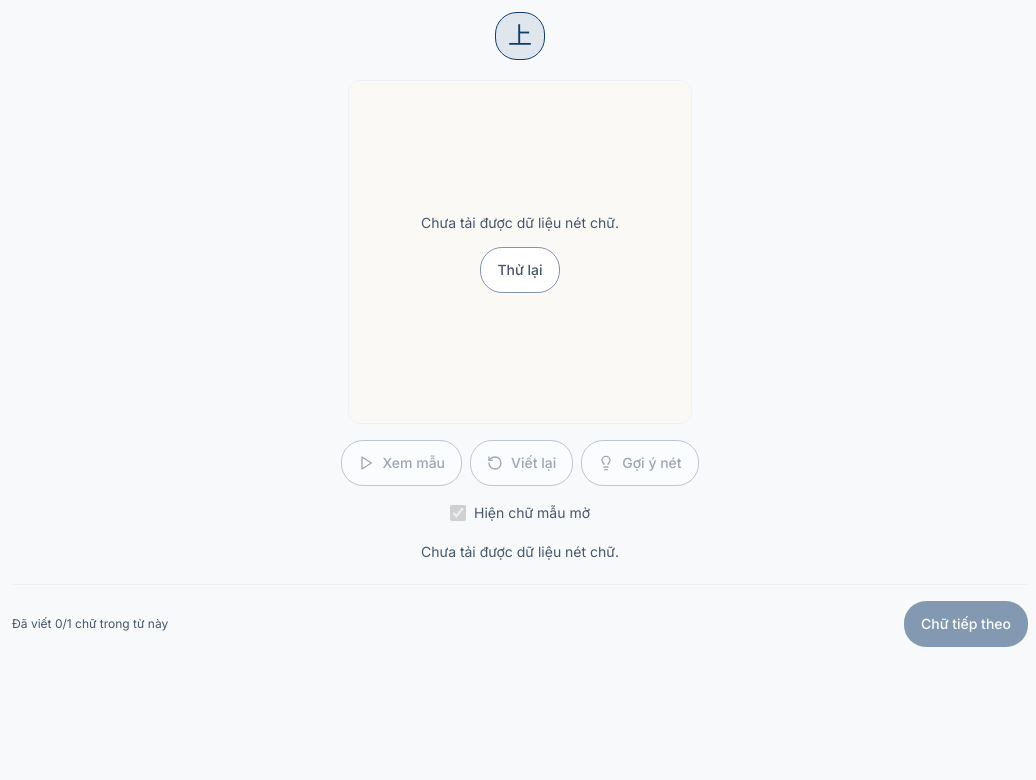
Test: offers retry after missing data and does not require a text or audio answer
The image size is (1036, 780).
Click the button "Thử lại" at (520, 270), box [480, 247, 560, 293]
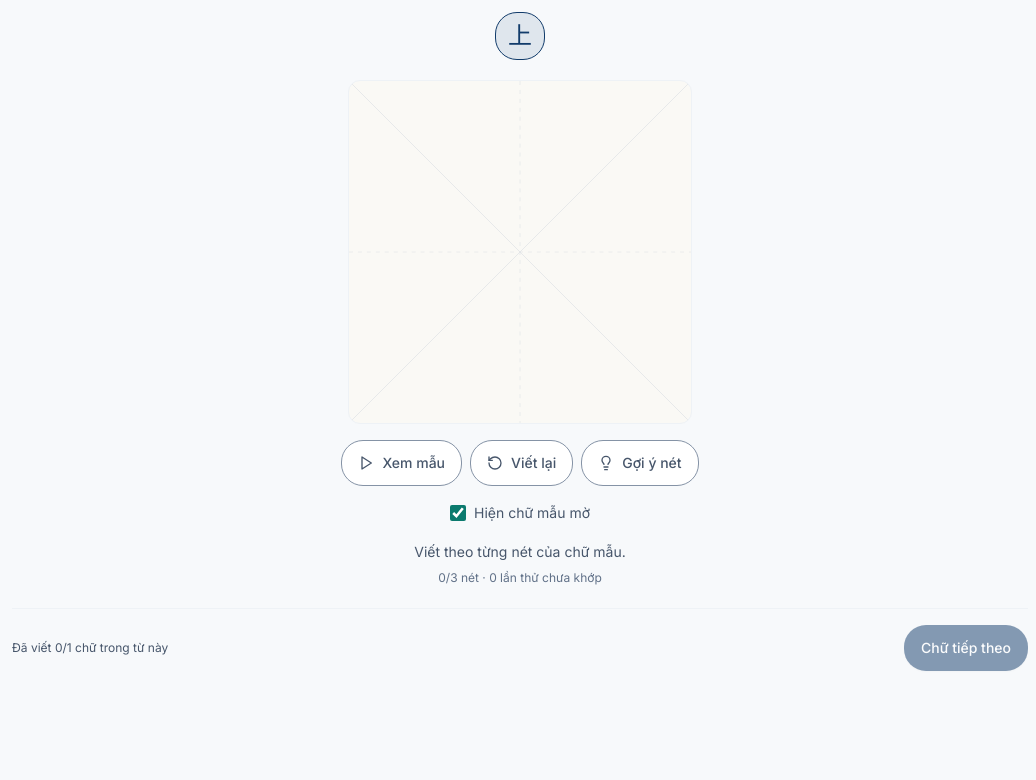
Now the button "Xem mẫu" is enabled, box [341, 440, 462, 486]
